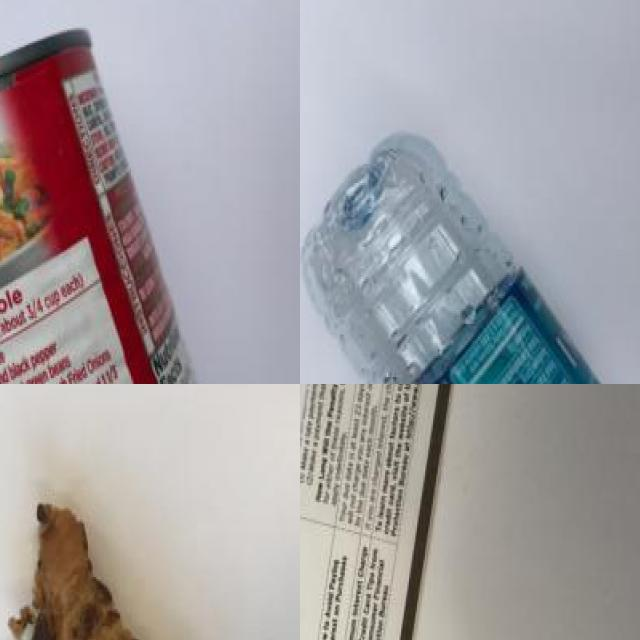compost: (0, 492, 248, 640)
paper: (300, 384, 499, 640)
plastic: (300, 130, 640, 384), (0, 44, 227, 384)
